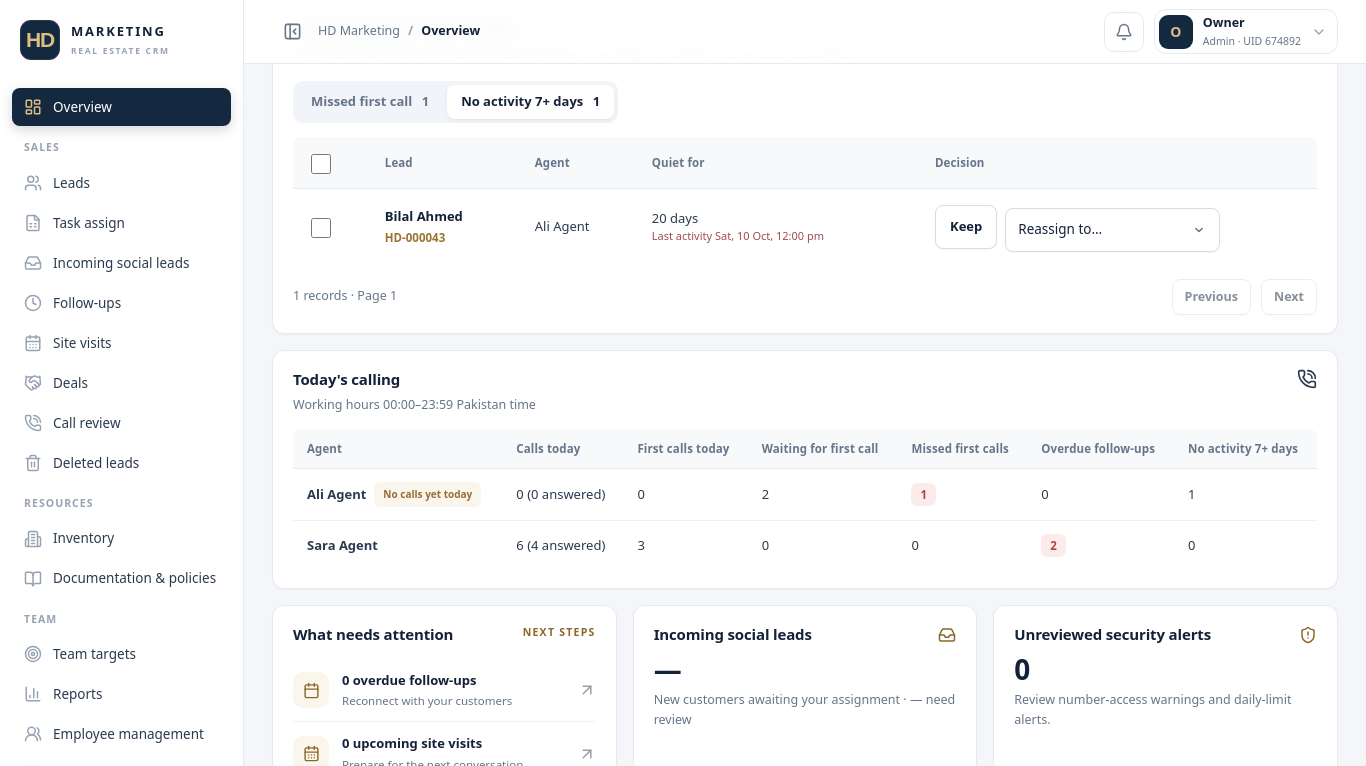
Test: admin review of missed first calls › switches to quiet leads and decides for a selection
(page scrolled)
Expected: the text "Bilal Ahmed" is shown, [385,207,463,225]
Click the checkbox named "Select Bilal Ahmed": (321, 228) [311,218,331,238]
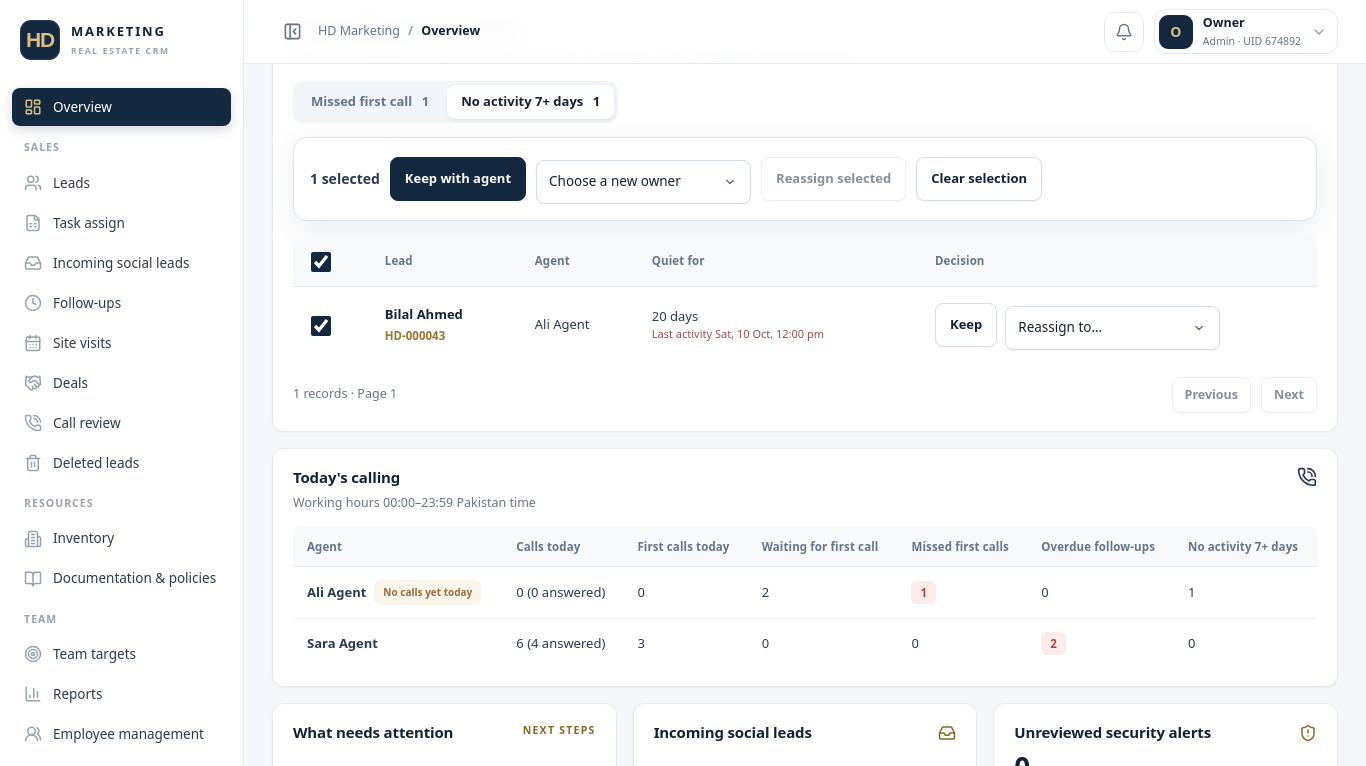
Select "Ali Agent" in the dropdown named "Reassign selected leads to": (644, 182) [536,160,751,204]
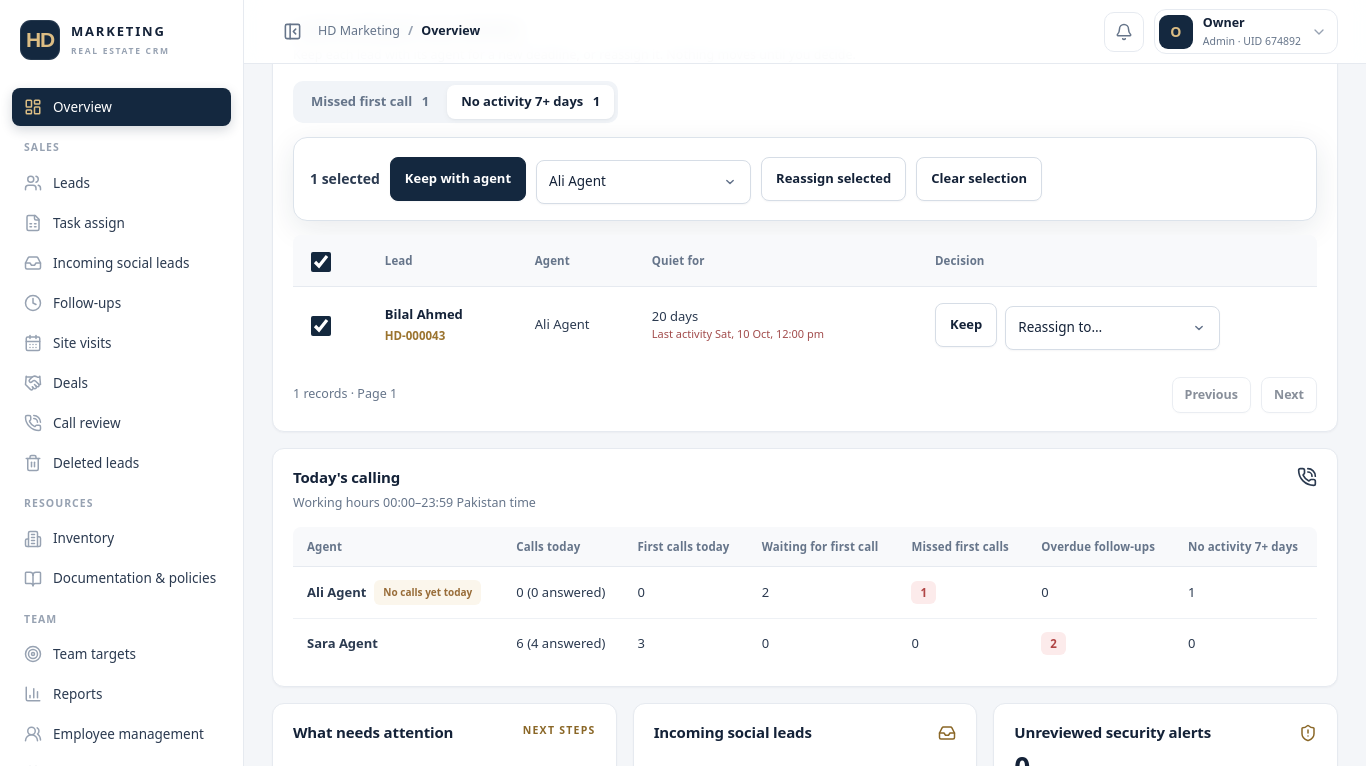
Click the button "Reassign selected": (834, 179) [761,157,906,201]
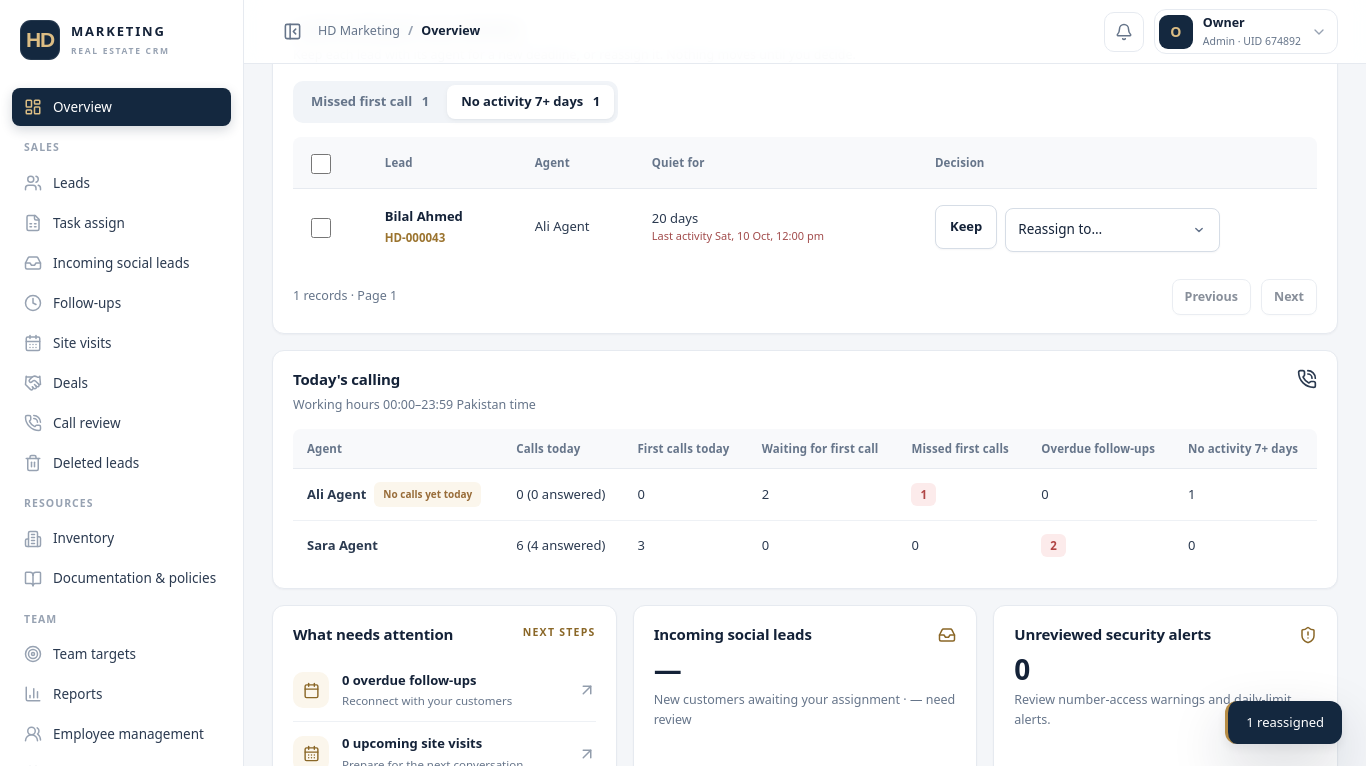
Result: the text "1 reassigned" is shown at [1225,700,1342,744]
Click the tab "Missed first call 1": (370, 102) [297,85,443,119]
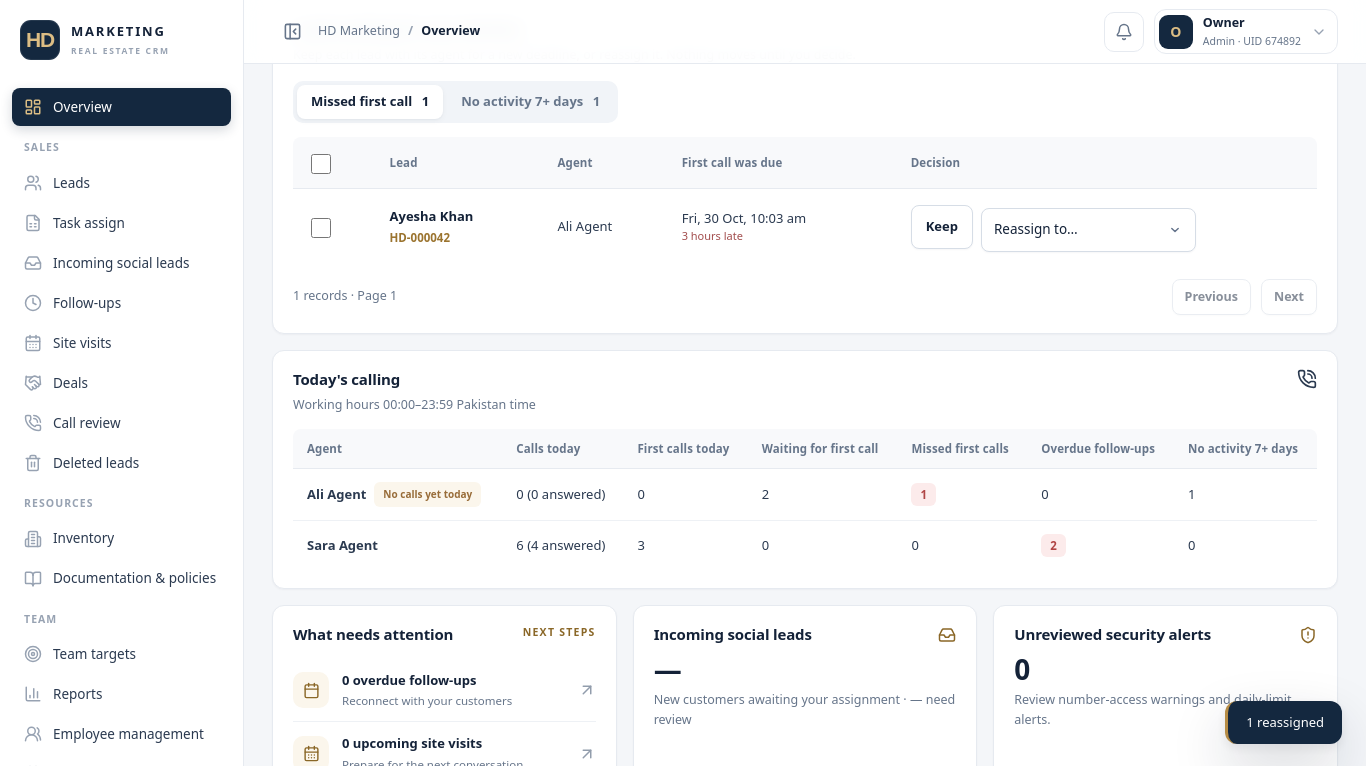
Result: the text "Ayesha Khan" is shown at [390,207,473,225]
